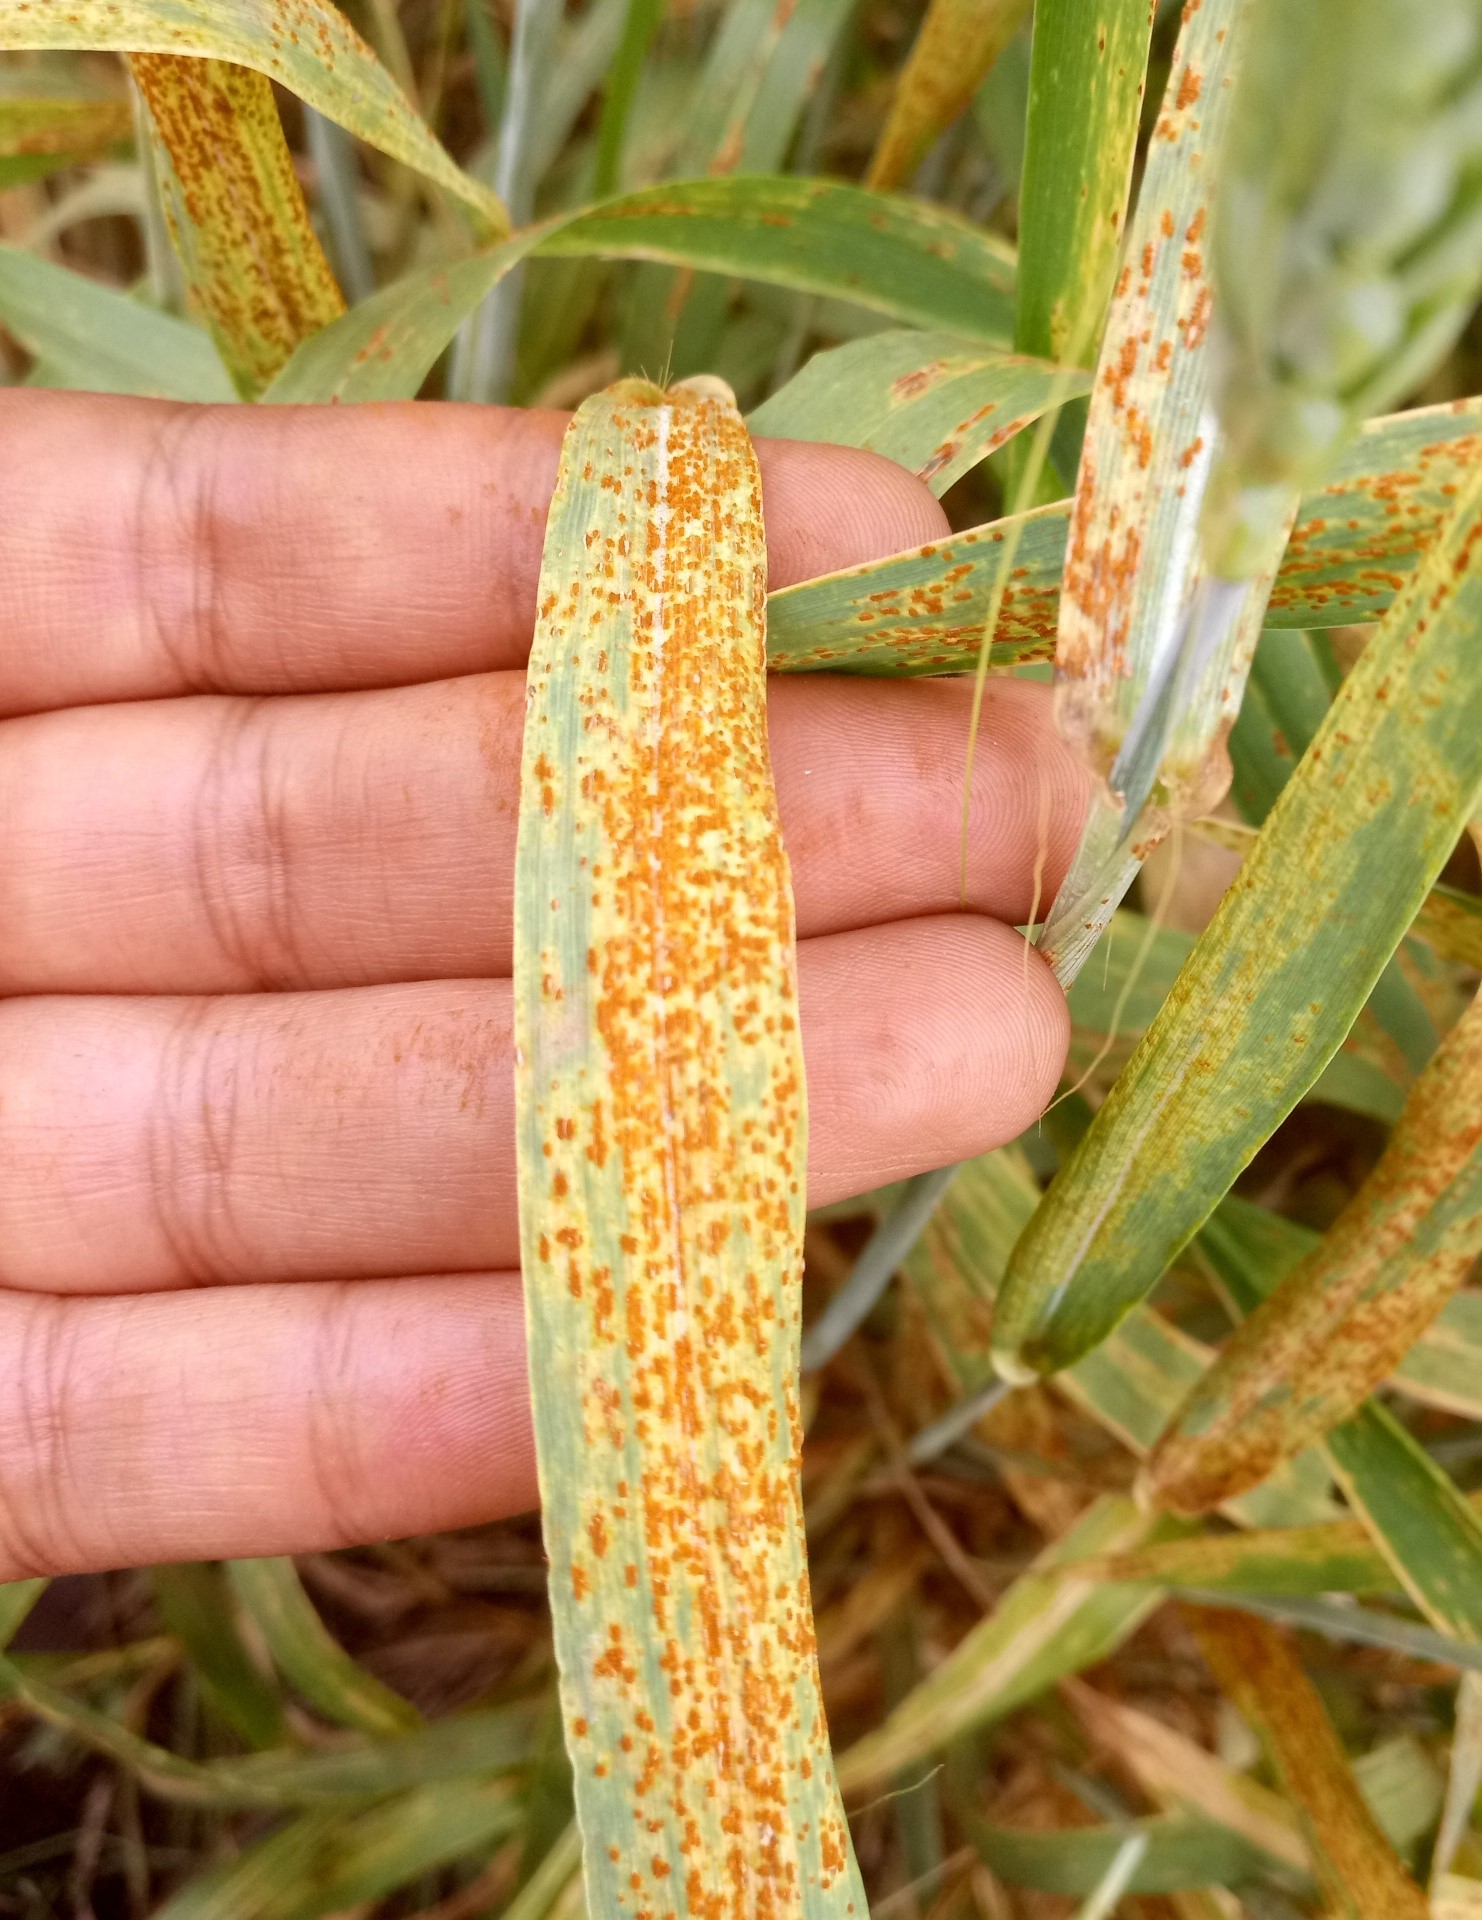Leaf Rust: (507, 495, 866, 1920)
